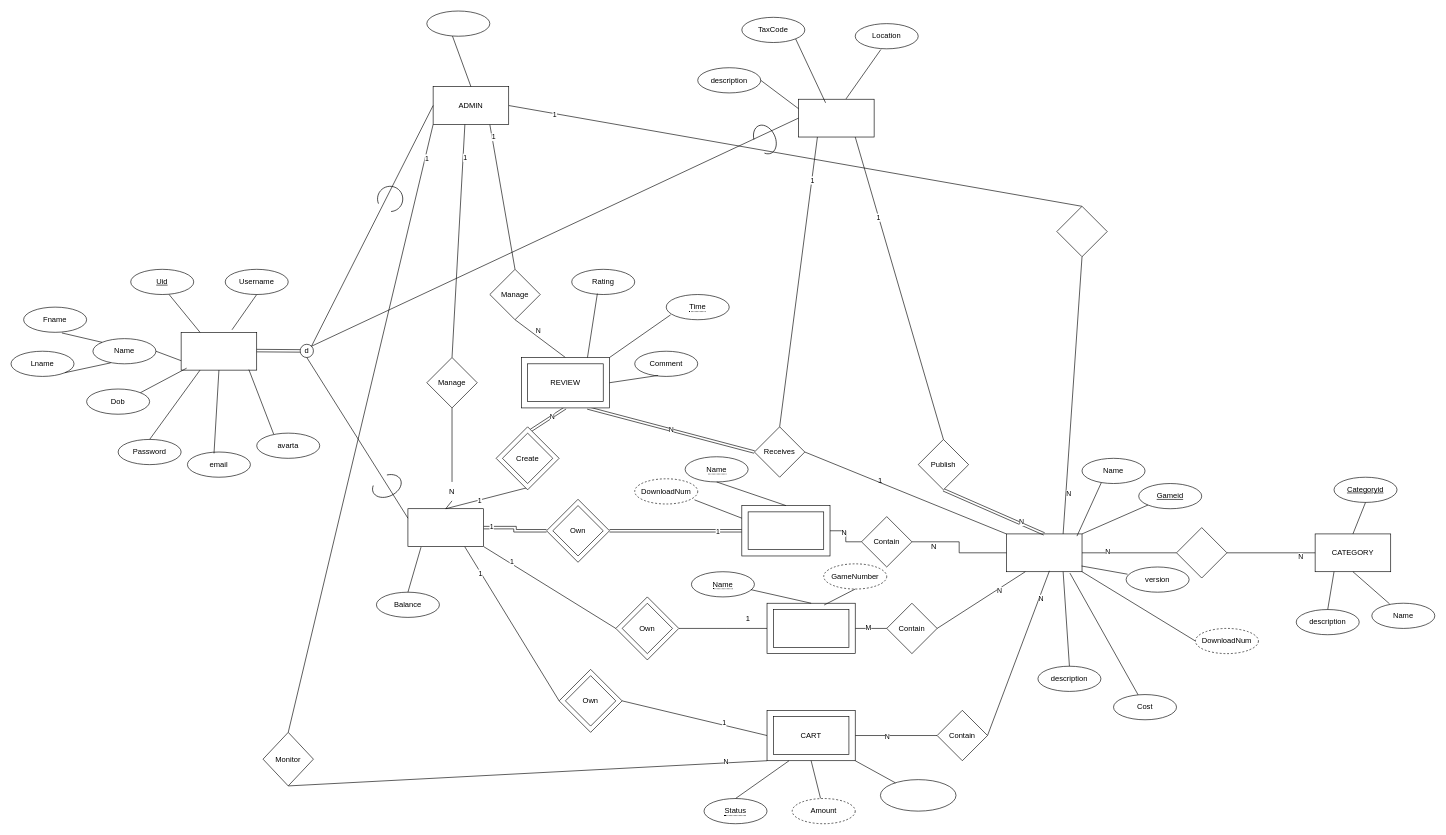
Some shapes in this 1446 by 835 pixel diagram are drawn without their labels. The shapes that lost their labels are listed below. From the top down, each one's box as (x1, y1, x2, y2) in pixels, then its label:
(426, 10, 490, 36): Start_date
(798, 99, 874, 137): PUBLISHER
(1056, 206, 1107, 257): Approve
(180, 332, 257, 370): User
(407, 508, 484, 547): Customer
(747, 511, 824, 550): LIBRARY
(1006, 533, 1082, 572): GAME
(1176, 527, 1227, 578): in
(773, 609, 849, 647): WISHLIST
(880, 779, 956, 811): PaymentMethod
